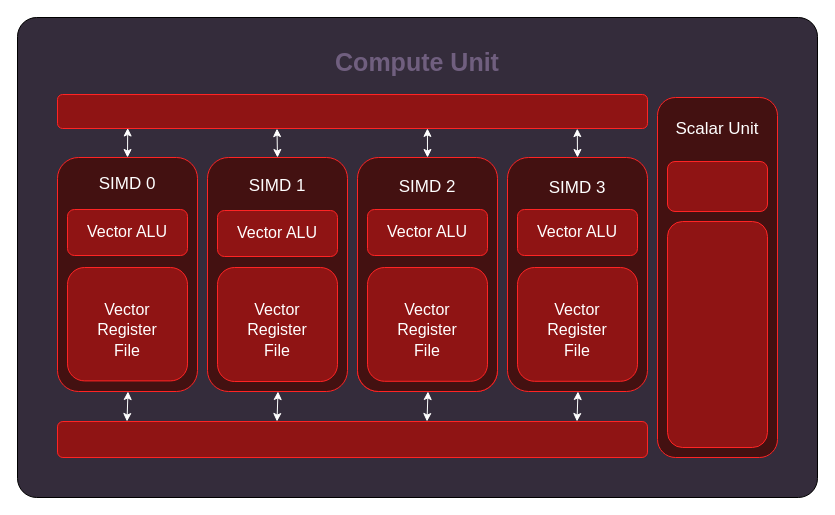
Image size: 835x515. Some labels were removed from this diagram. The shapes that lost their labels are listed below. From the top down, each one's box as (x1, y1, x2, y2) in pixels, then its label:
(56, 94, 648, 128): Vector Caches
(666, 160, 768, 212): Scalar ALU
(666, 220, 768, 448): Scalar Register File
(56, 420, 648, 458): Local Data Share
